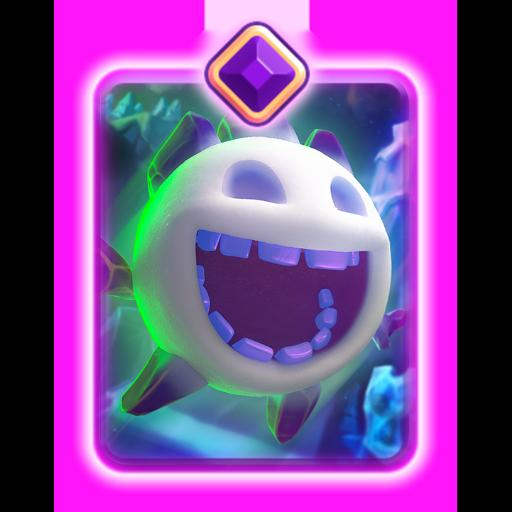ice-spirit-evo: (107, 84, 409, 462)
